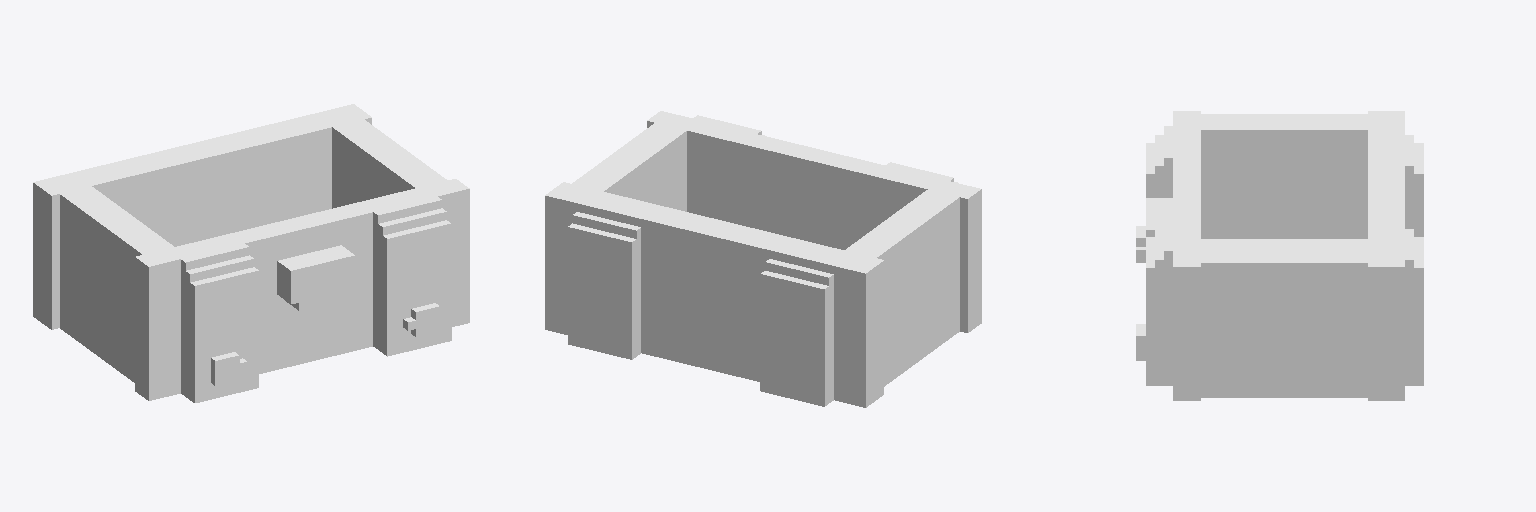
The model's file is chest-1-chest.obj.
3 views of the same model, side by side, from view 1: azimuth 30°, elevation 25°; view 2: azimuth 150°, elevation 25°; view 3: azimuth 270°, elevation 25° (orthographic).
Parts seen in each view (by area): view 1: chest; view 2: chest; view 3: chest.
Part boxes in pixels (x1,y1,x2,y2): chest: (33,104,469,402); chest: (545,111,981,407); chest: (1136,111,1423,400).
Size of the model in its own units: 4 by 1.6 by 3.1.